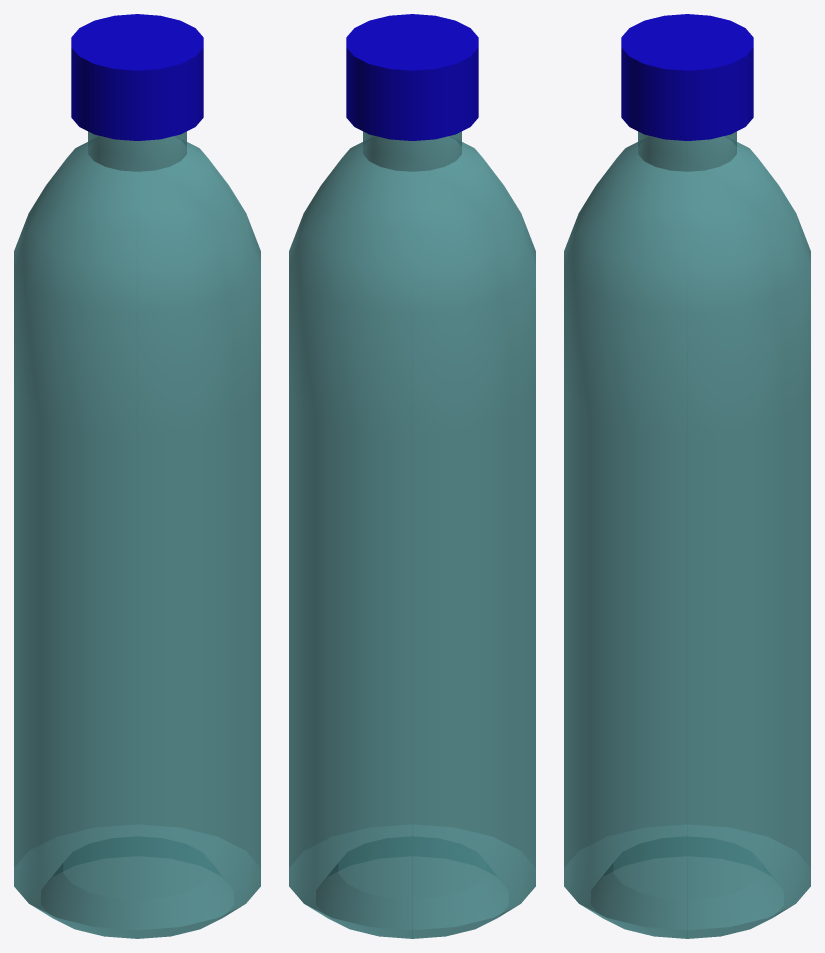
The model's file is waterbottle.FBX.
3 views of the same model, side by side, from view 1: azimuth 30°, elevation 25°; view 2: azimuth 150°, elevation 25°; view 3: azimuth 270°, elevation 25° (orthographic).
Parts seen in each view (by area): view 1: waterbottle, cap; view 2: waterbottle, cap; view 3: waterbottle, cap.
Part boxes in pixels (x1=…): waterbottle: x1=14, y1=131, x2=260, y2=938; cap: x1=71, y1=14, x2=203, y2=140; waterbottle: x1=289, y1=131, x2=535, y2=938; cap: x1=346, y1=14, x2=478, y2=140; waterbottle: x1=564, y1=131, x2=810, y2=938; cap: x1=621, y1=14, x2=753, y2=140.
Size of the model in its own units: 20.83 by 78.46 by 20.52.
